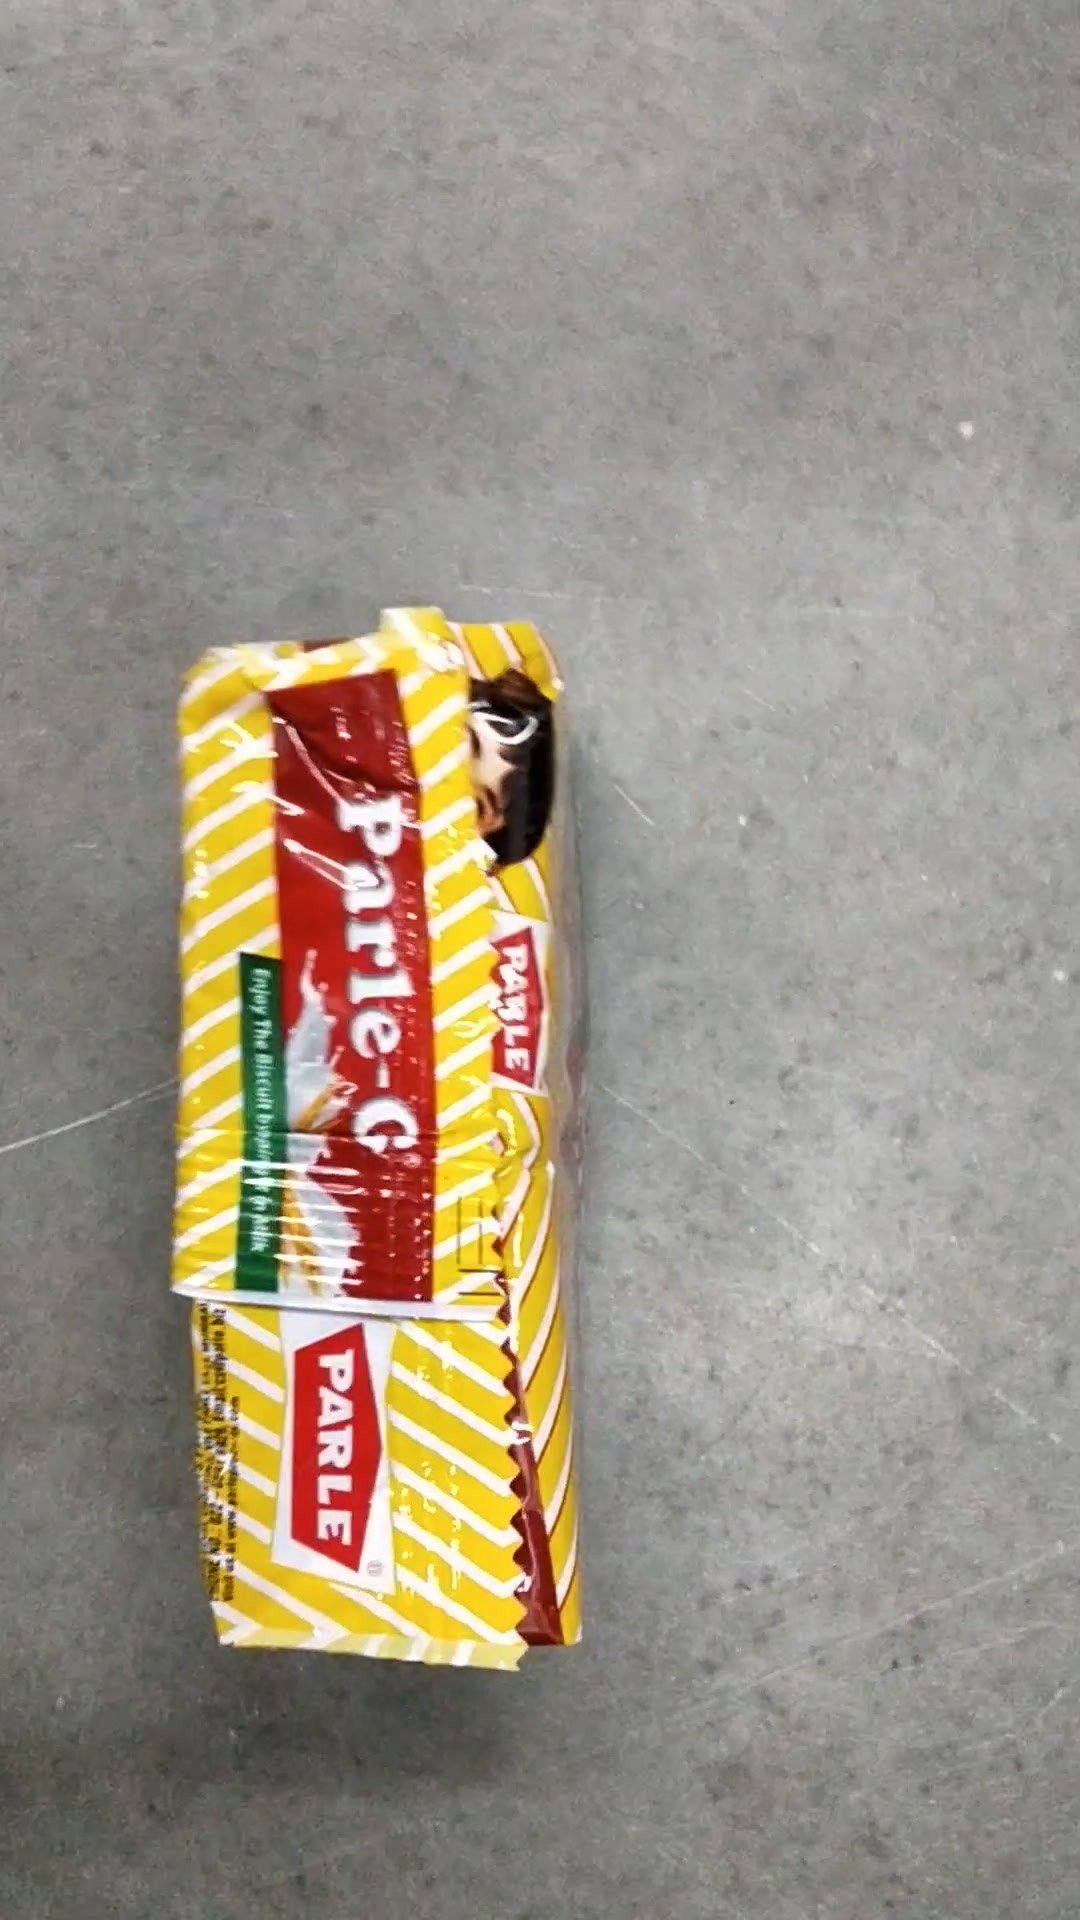parle-g: (195, 659, 562, 1640)
